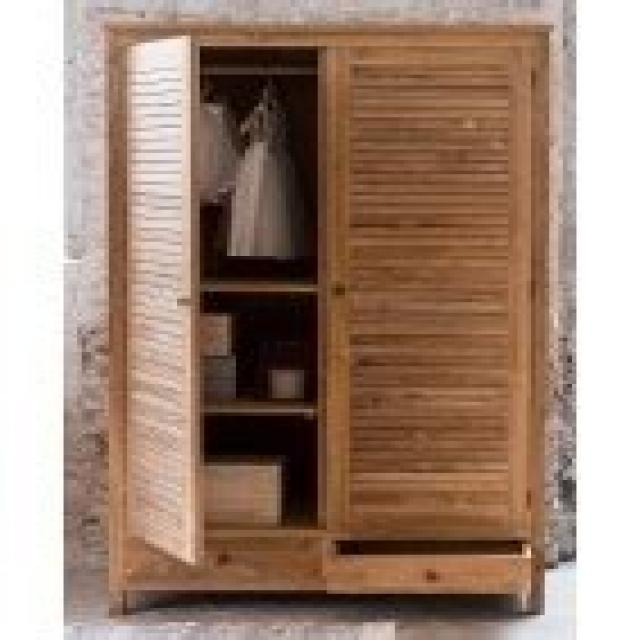Closet: (90, 16, 558, 624)
